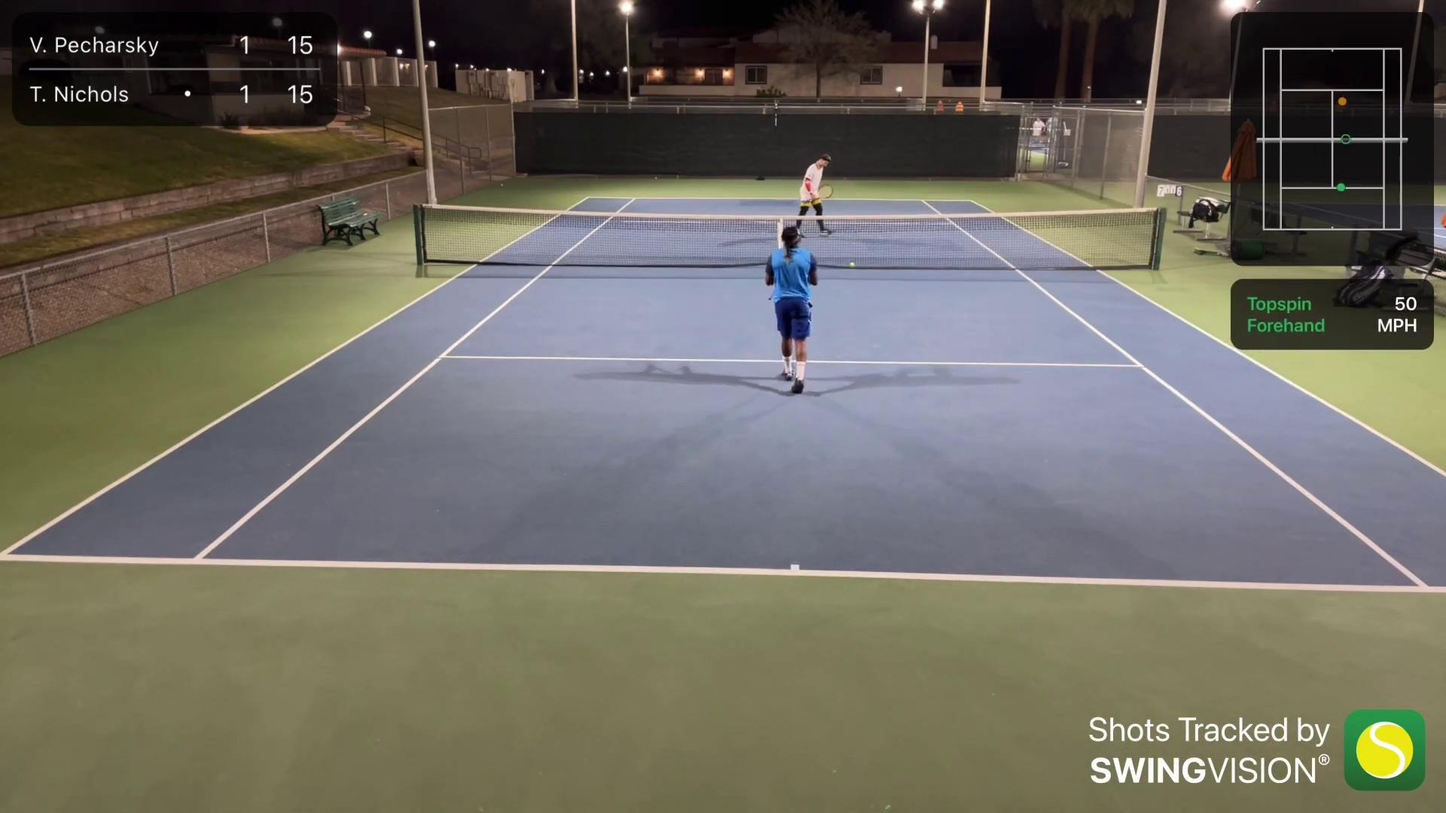ball: (849, 263, 856, 268)
